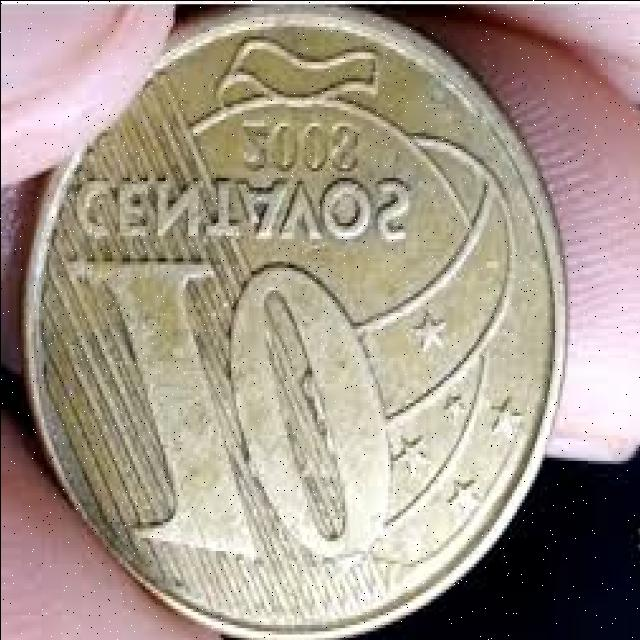10 cent: (38, 37, 546, 629)
